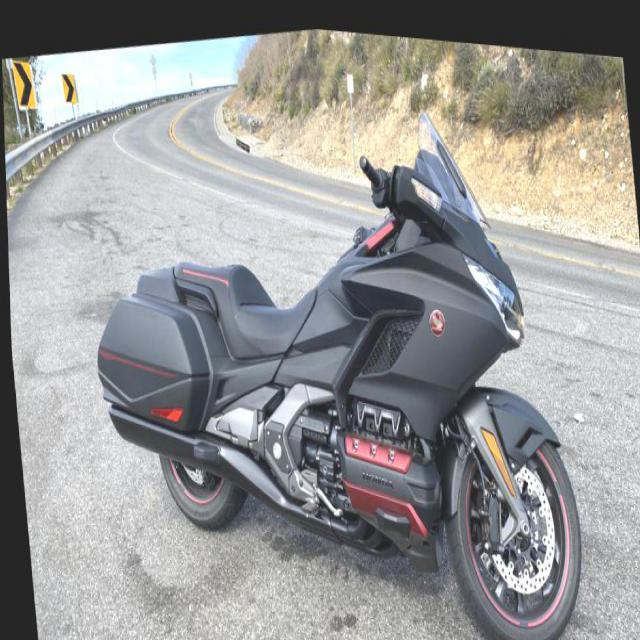Gold Wing: (71, 50, 590, 639)
